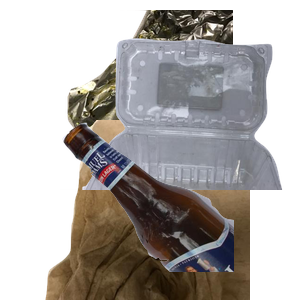glass: (60, 120, 300, 300)
metal: (60, 10, 300, 190)
plastic: (80, 36, 300, 216)
trash: (43, 120, 283, 300)
